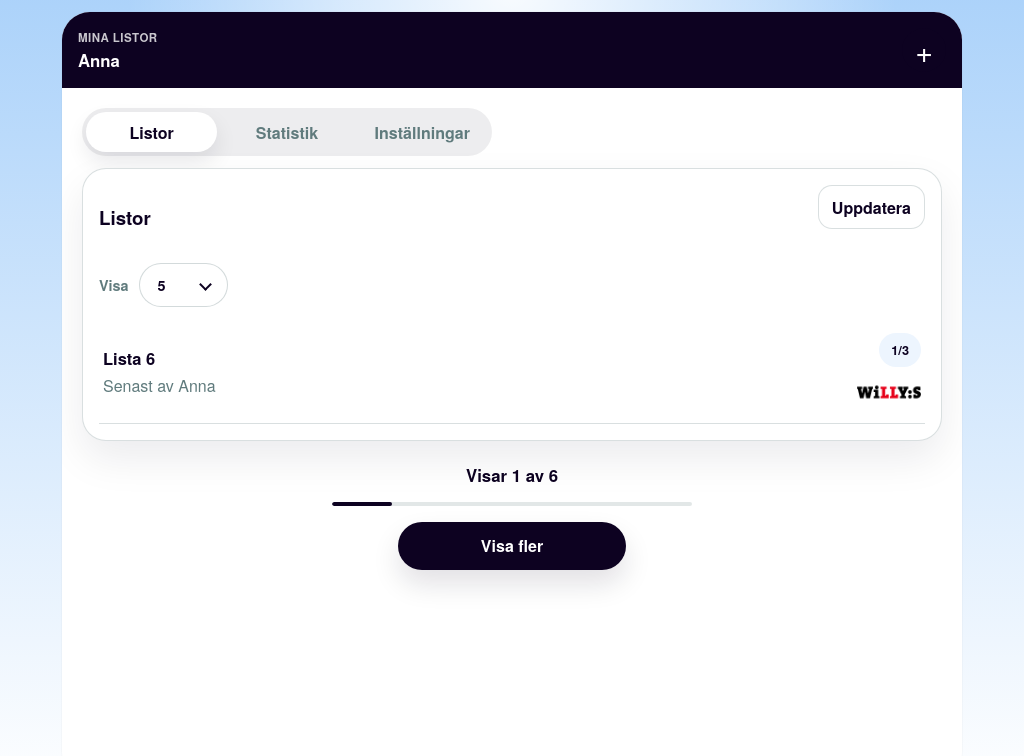
Test: ListsOverviewPage › loads more lists into the overview and lets the user switch page size up to all
expect the text "Lista 6" is shown: met, box [103,346,155,370]
expect the text "Visar 1 av 6" is shown: met, box [466,465,558,486]
Click the button "Visa fler" at coordinates (512, 546), box [398,522,626,570]
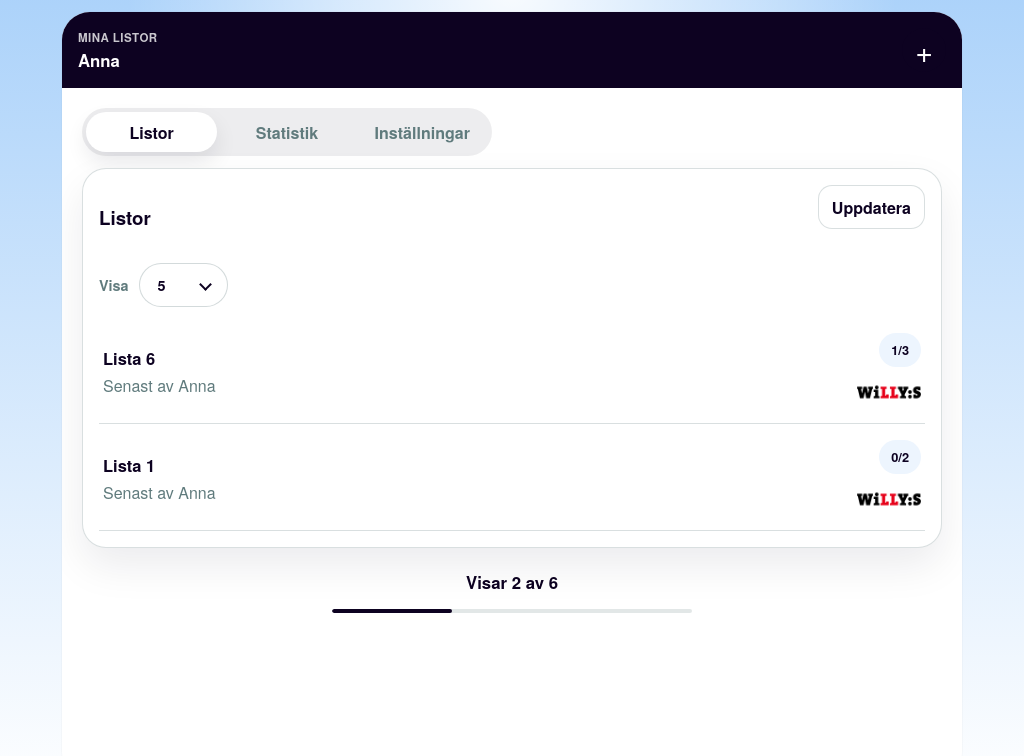
expect the text "Lista 6" is shown: met, box [103,346,155,370]
expect the text "Lista 1" is shown: met, box [103,453,155,477]
expect the text "Visar 2 av 6" is shown: met, box [466,572,558,593]
Select "Alla" in the dropdown named "Listor per sida" at coordinates (183, 285), box [139,263,228,307]
(page scrolled)
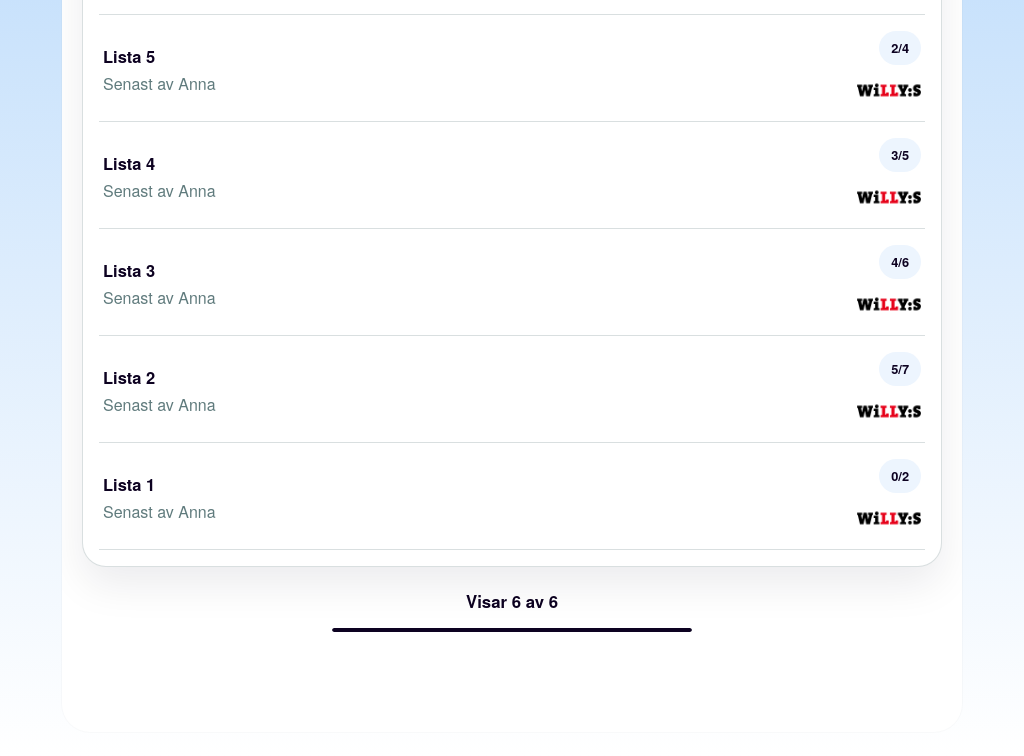
expect the button "Visa fler" is not shown: met
expect the text "Visar 6 av 6" is shown: met, box [466,591,558,612]
